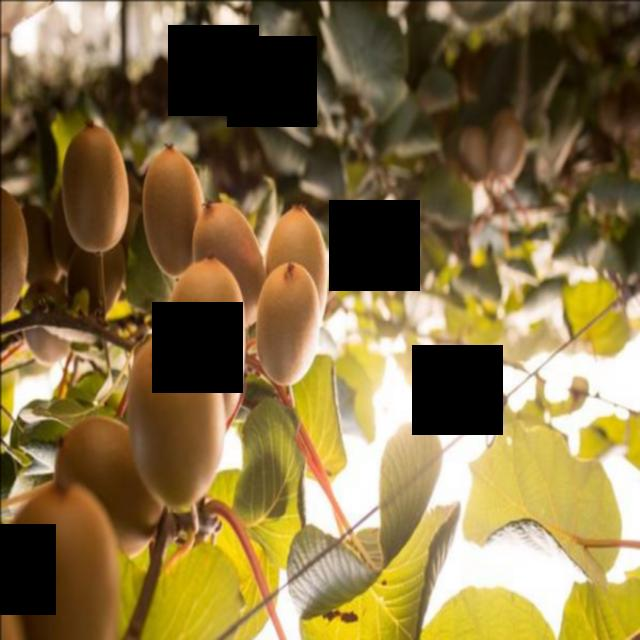kiwi: (122, 324, 232, 516), (45, 404, 172, 564), (1, 483, 128, 640), (159, 251, 249, 435), (58, 120, 136, 256), (190, 193, 266, 324), (253, 265, 325, 393), (141, 137, 206, 276), (263, 201, 335, 284), (64, 235, 130, 325), (19, 286, 75, 369), (1, 190, 35, 318), (19, 201, 63, 287), (484, 110, 532, 185), (53, 195, 81, 280), (456, 126, 492, 185)
